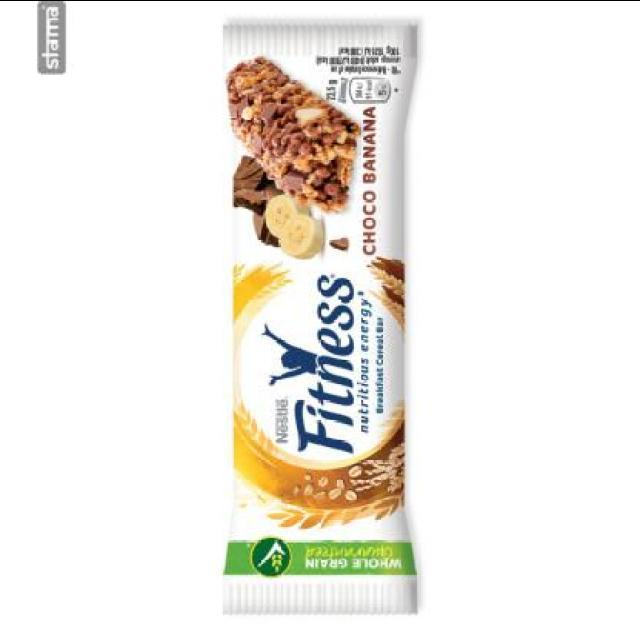Cereal bar: (212, 13, 432, 621)
